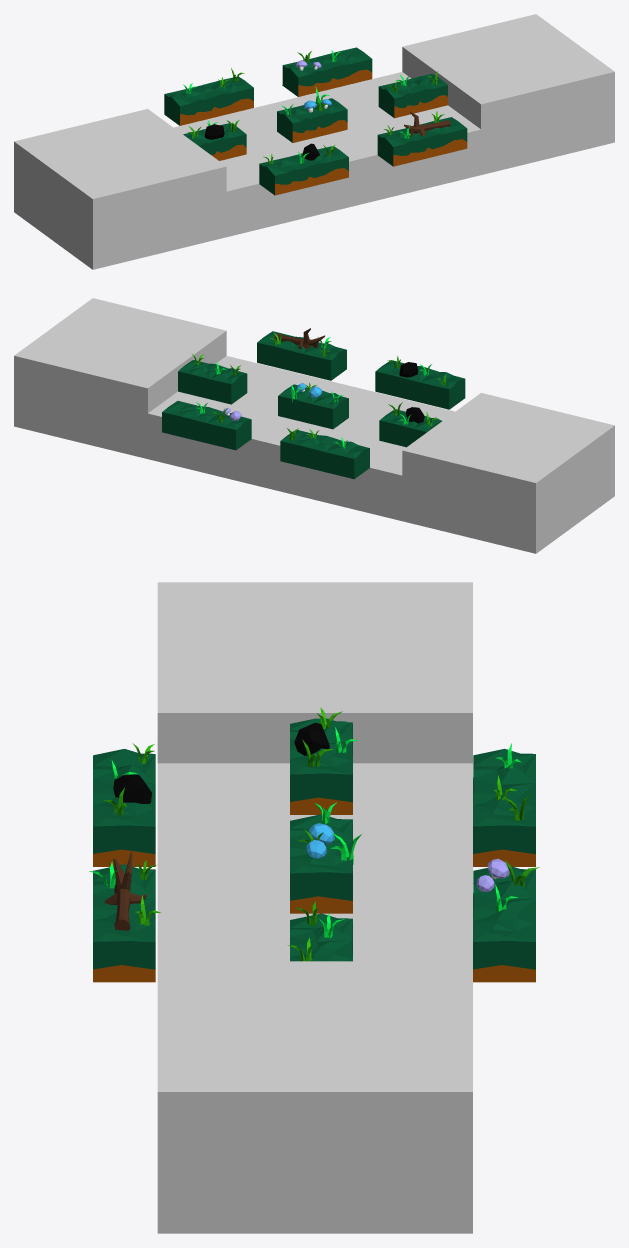
File: VHard_Obstacle_Forest_14.fbx
3 views of the same model, one above another, from view 1: azimuth 30°, elevation 25°; view 2: azimuth 150°, elevation 25°; view 3: azimuth 270°, elevation 25° (orthographic). The views are drawn at different scales.
Visible parts, largest first — view 1: Cube, Icosphere.006; view 2: Cube, Icosphere.006; view 3: Cube, Icosphere.006.
Part boxes in pixels (x1,y1,x2,y2): Cube: (14,14,614,269); Icosphere.006: (164,47,467,195); Cube: (14,298,614,553); Icosphere.006: (162,328,465,479); Cube: (157,582,472,1233); Icosphere.006: (89,707,539,982).
Bounding box in the file's own units: 10231 × 1639 × 3836.
